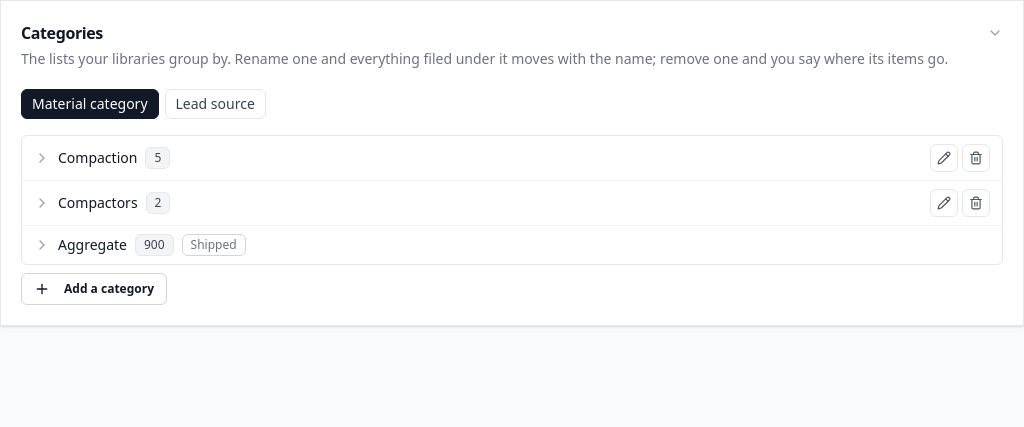
Test: renaming one › shows the refusal rather than pretending it worked
This screenshot has width=1024, height=427.
expect the text "Compaction" is shown: met, box [58,148,137,168]
Step 1. Click the button named "Rename Compaction" → (944, 158), box [930,144,958,172]
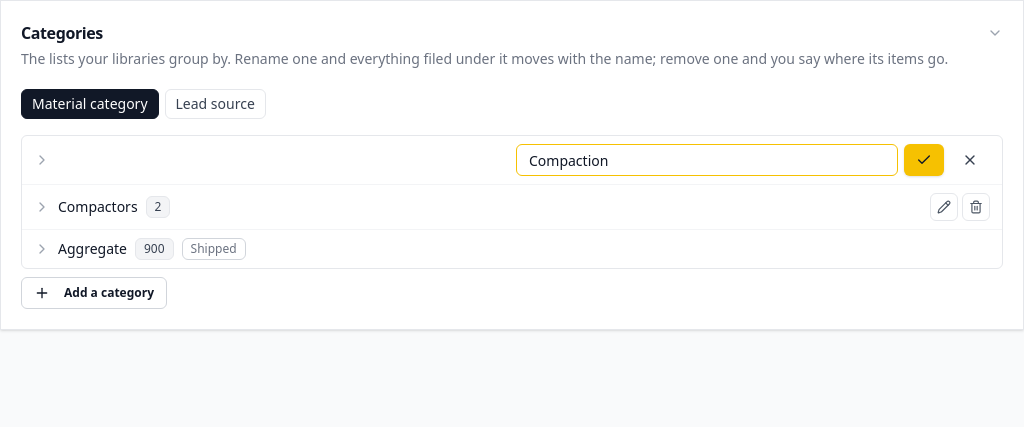
Step 2. Replace the text in the field named "New name for Compaction" with "Compactors" → (707, 160), box [516,144,898,176]
Then press Enter
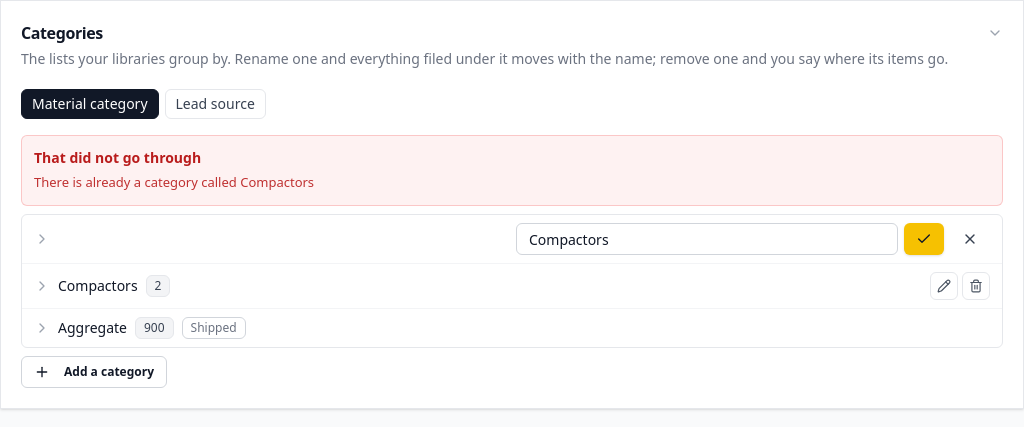
expect the text "There is already a category called Compactors" is shown: met, box [34,172,314,193]
